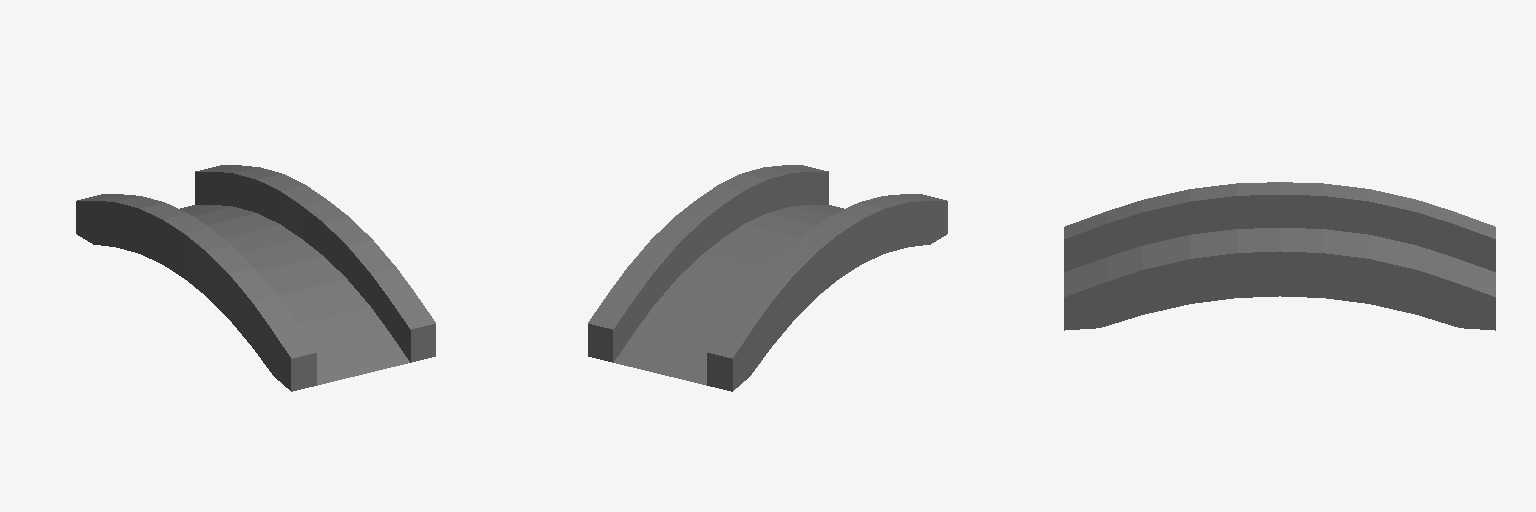
Rendered from bridgeCol_01.obj.
3 renders of one model, left to right at view 1: azimuth 30°, elevation 25°; view 2: azimuth 150°, elevation 25°; view 3: azimuth 270°, elevation 25°, orthographic.
Visible parts, largest first — view 1: bridgecol; view 2: bridgecol; view 3: bridgecol.
Boxes of the visible parts, <box> form: bridgecol: <box>76,165,435,391</box>; bridgecol: <box>588,165,947,391</box>; bridgecol: <box>1064,182,1495,330</box>.
Size of the model in its own units: 1.4 by 0.7243 by 3.61.